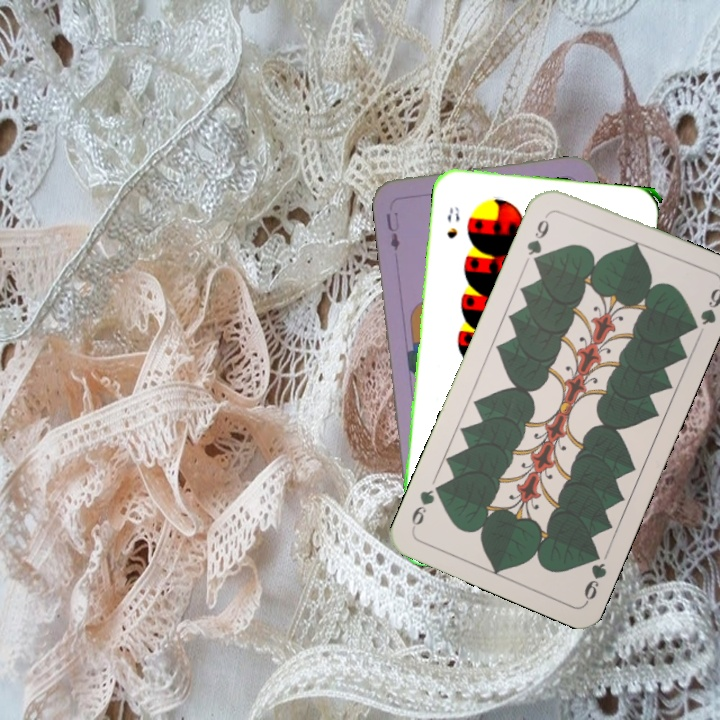EU: (382, 207, 402, 253)
G9: (522, 209, 553, 268), (580, 545, 610, 605)
S8: (443, 202, 463, 241)
